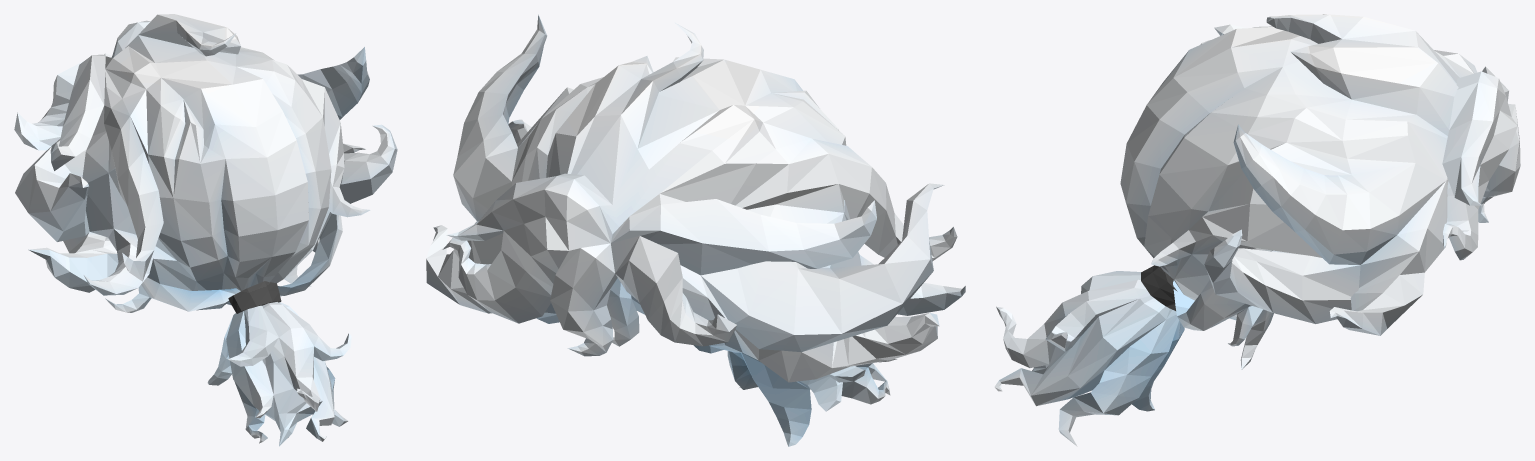
Rendered from CharSkyKid_Hair_Frantic.glb.
The picture shows the model from 3 angles, left to right: view 1: azimuth 30°, elevation 25°; view 2: azimuth 150°, elevation 25°; view 3: azimuth 270°, elevation 25°; orthographic projection. The views are drawn at different scales.
Visible parts, largest first — view 1: CharSkyKid_Hair_Frantic; view 2: CharSkyKid_Hair_Frantic; view 3: CharSkyKid_Hair_Frantic.
Part boxes in pixels (x1,y1,x2,y2): CharSkyKid_Hair_Frantic: (14,14,397,446); CharSkyKid_Hair_Frantic: (426,14,965,446); CharSkyKid_Hair_Frantic: (994,14,1520,446).
Size of the model in its own units: 4.4 by 4.01 by 4.62.
1 material, 1 textured.
